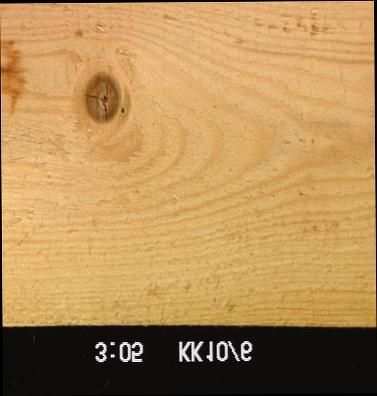sound_knot: (82, 70, 121, 124)
